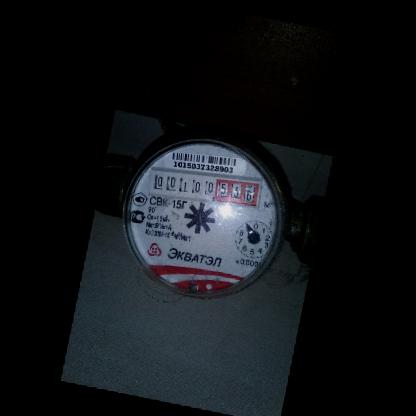digital_screen: (146, 169, 214, 199)
